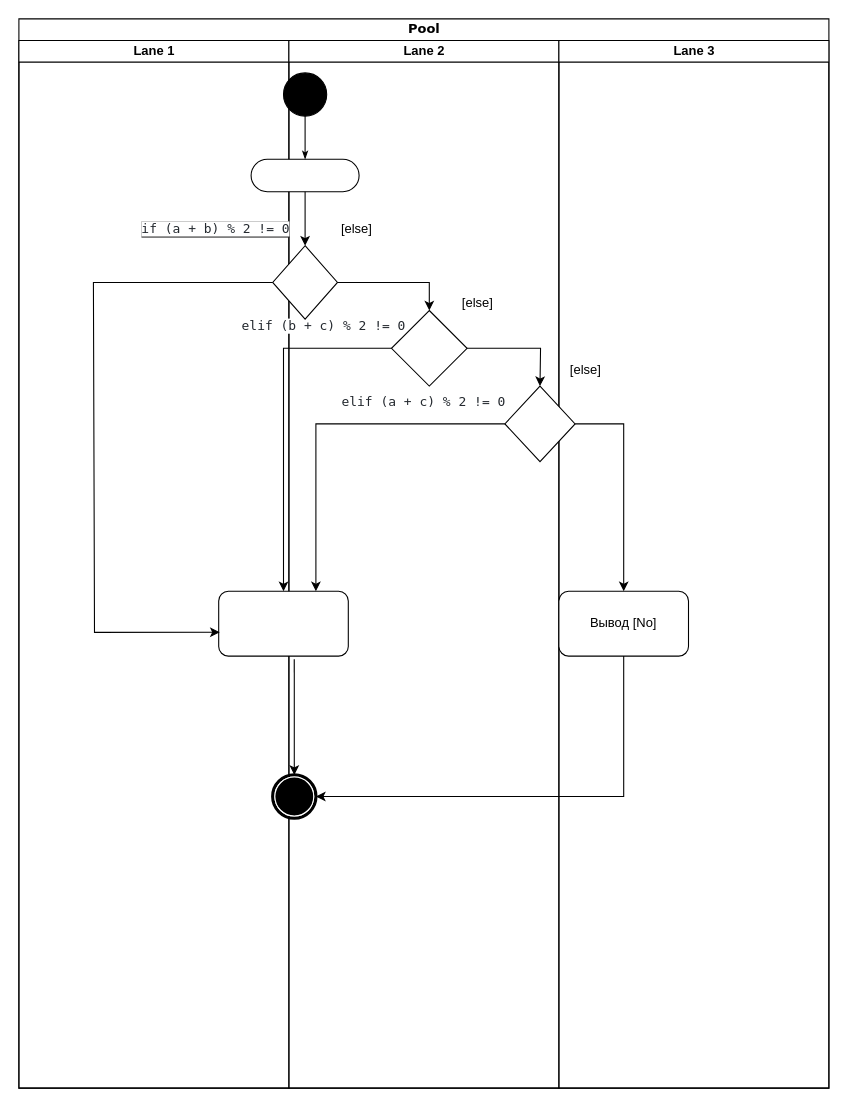
Image size: 848x1107. Some labels were removed from this diagram. Each missing label, with the centre of its shape:
"Ввод a. b. c" belongs at [304,175].
"Вывод [Yes]" belongs at [283,623].
